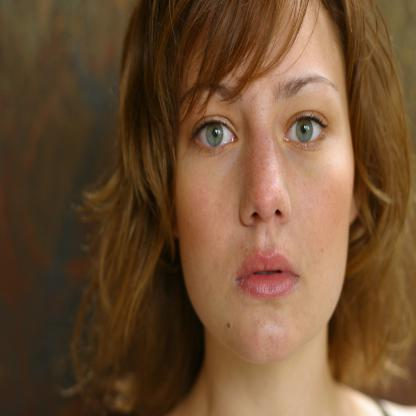Eye: (281, 103, 339, 159), (184, 107, 242, 156)
Mouth: (227, 247, 305, 304)
Nose: (240, 114, 293, 234)
